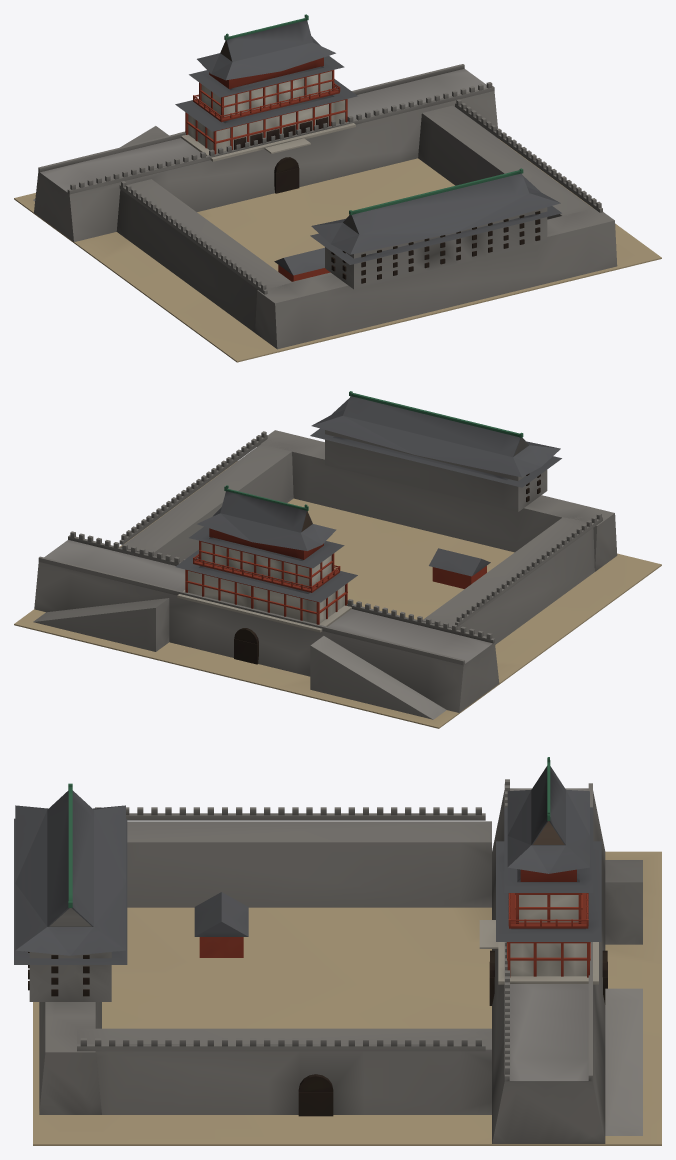
Rendered from ming-gate.glb.
The picture shows the model from 3 angles, top to bottom: view 1: azimuth 30°, elevation 25°; view 2: azimuth 150°, elevation 25°; view 3: azimuth 270°, elevation 25°; orthographic projection. The views are drawn at different scales.
Parts seen in each view (by area): view 1: p0_walls, p2_roofs, p1_halls; view 2: p0_walls, p2_roofs, p1_halls; view 3: p0_walls, p2_roofs, p1_halls.
Part boxes in pixels (bbox=[...]): p0_walls: bbox=[14, 64, 661, 362]; p2_roofs: bbox=[175, 14, 561, 264]; p1_halls: bbox=[178, 70, 547, 289]; p0_walls: bbox=[14, 430, 661, 728]; p2_roofs: bbox=[175, 391, 561, 602]; p1_halls: bbox=[177, 430, 547, 664]; p0_walls: bbox=[33, 779, 661, 1145]; p2_roofs: bbox=[14, 757, 601, 964]; p1_halls: bbox=[28, 892, 607, 1116].
Bounding box in the file's own units: 110 × 37.69 × 103.
